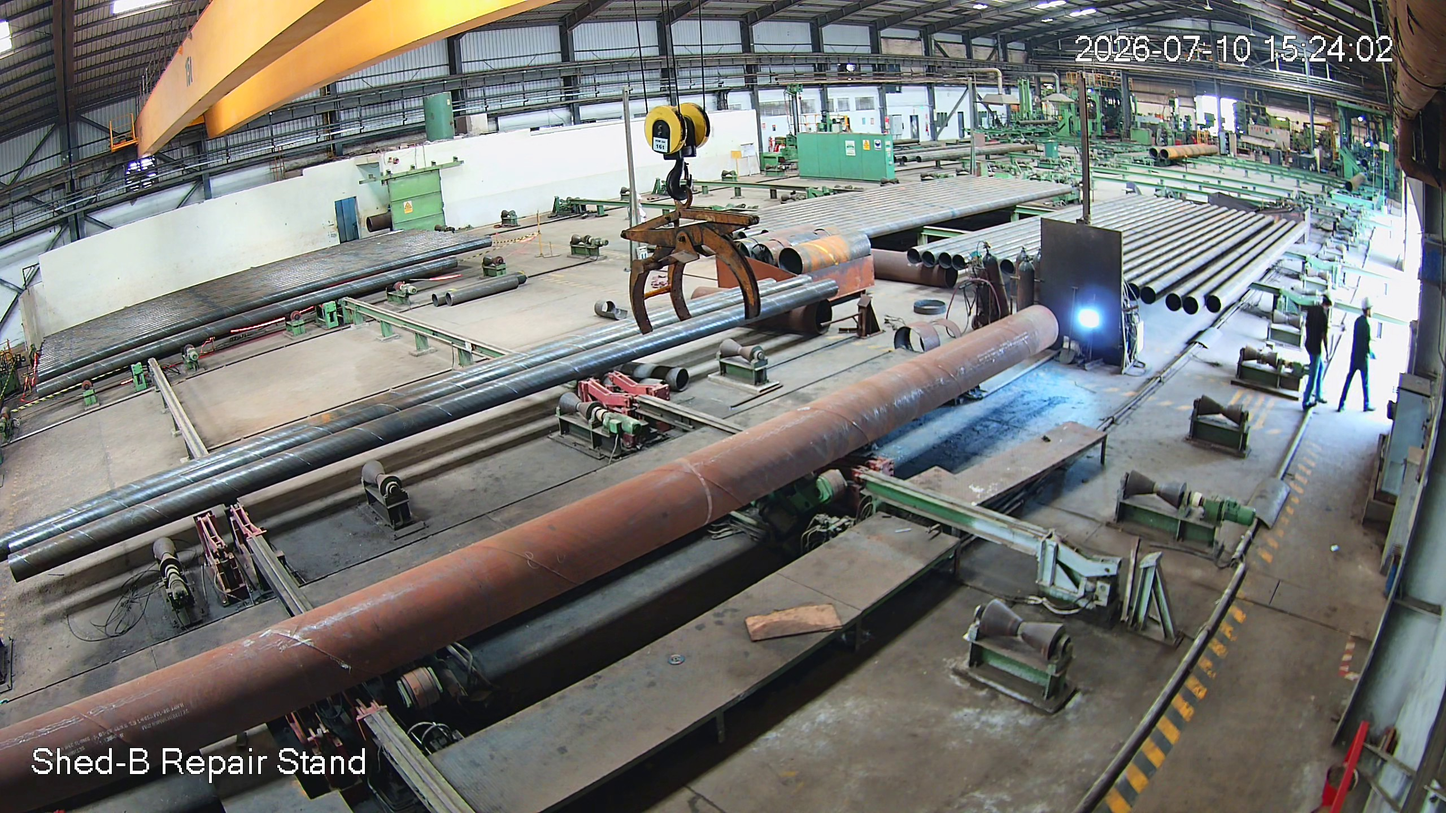Helmet: (1356, 293, 1383, 322), (1319, 287, 1339, 314)
Person: (1335, 297, 1383, 425), (1297, 290, 1339, 413)
